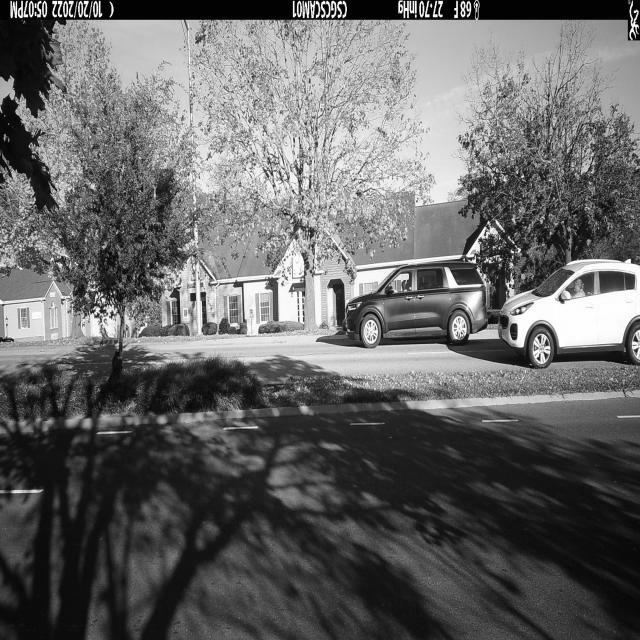SUV: (496, 259, 640, 368)
Van: (348, 260, 489, 349)
